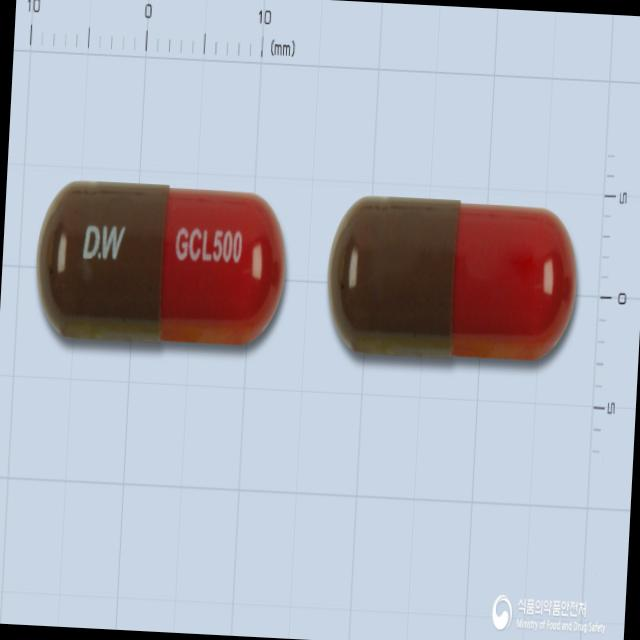Gomcillin Cap -250mg: (32, 175, 290, 356)
